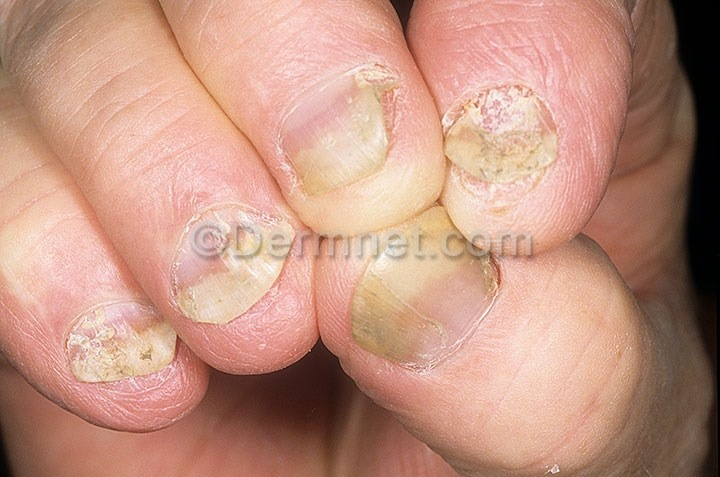Psoriasis: (341, 211, 499, 315), (298, 64, 414, 178), (187, 214, 285, 326), (447, 95, 579, 177), (65, 307, 183, 386)
